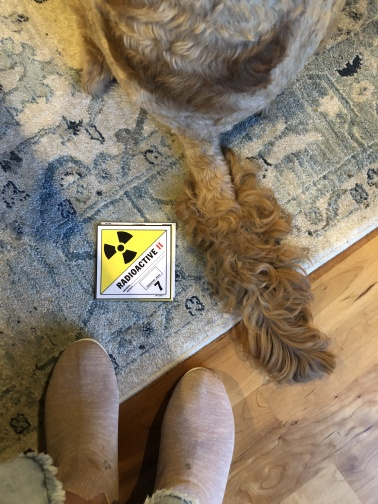Radioactive: (96, 225, 171, 300)
